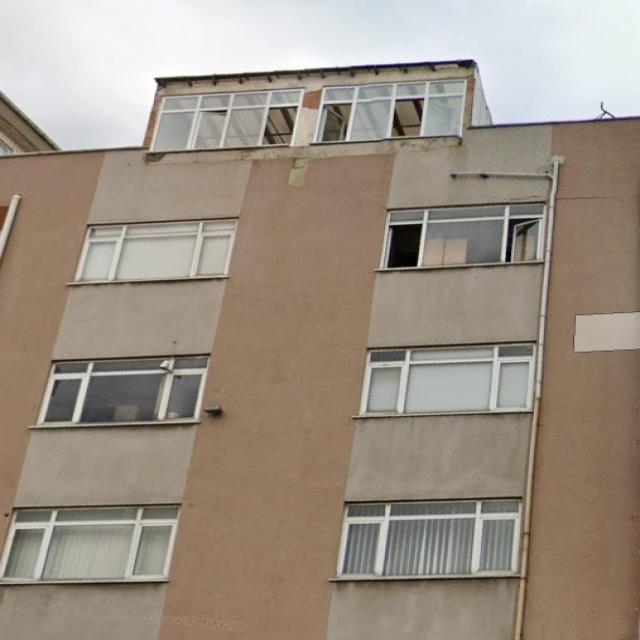Building: (0, 61, 640, 640)
